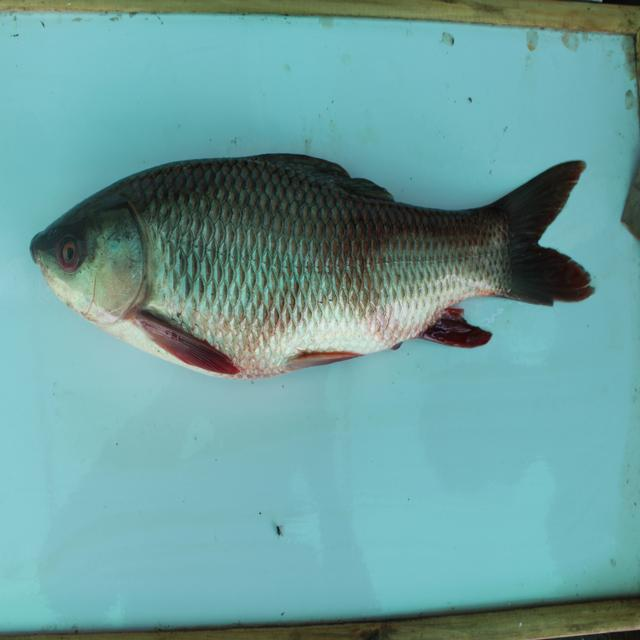Rohu: (29, 132, 594, 373)
